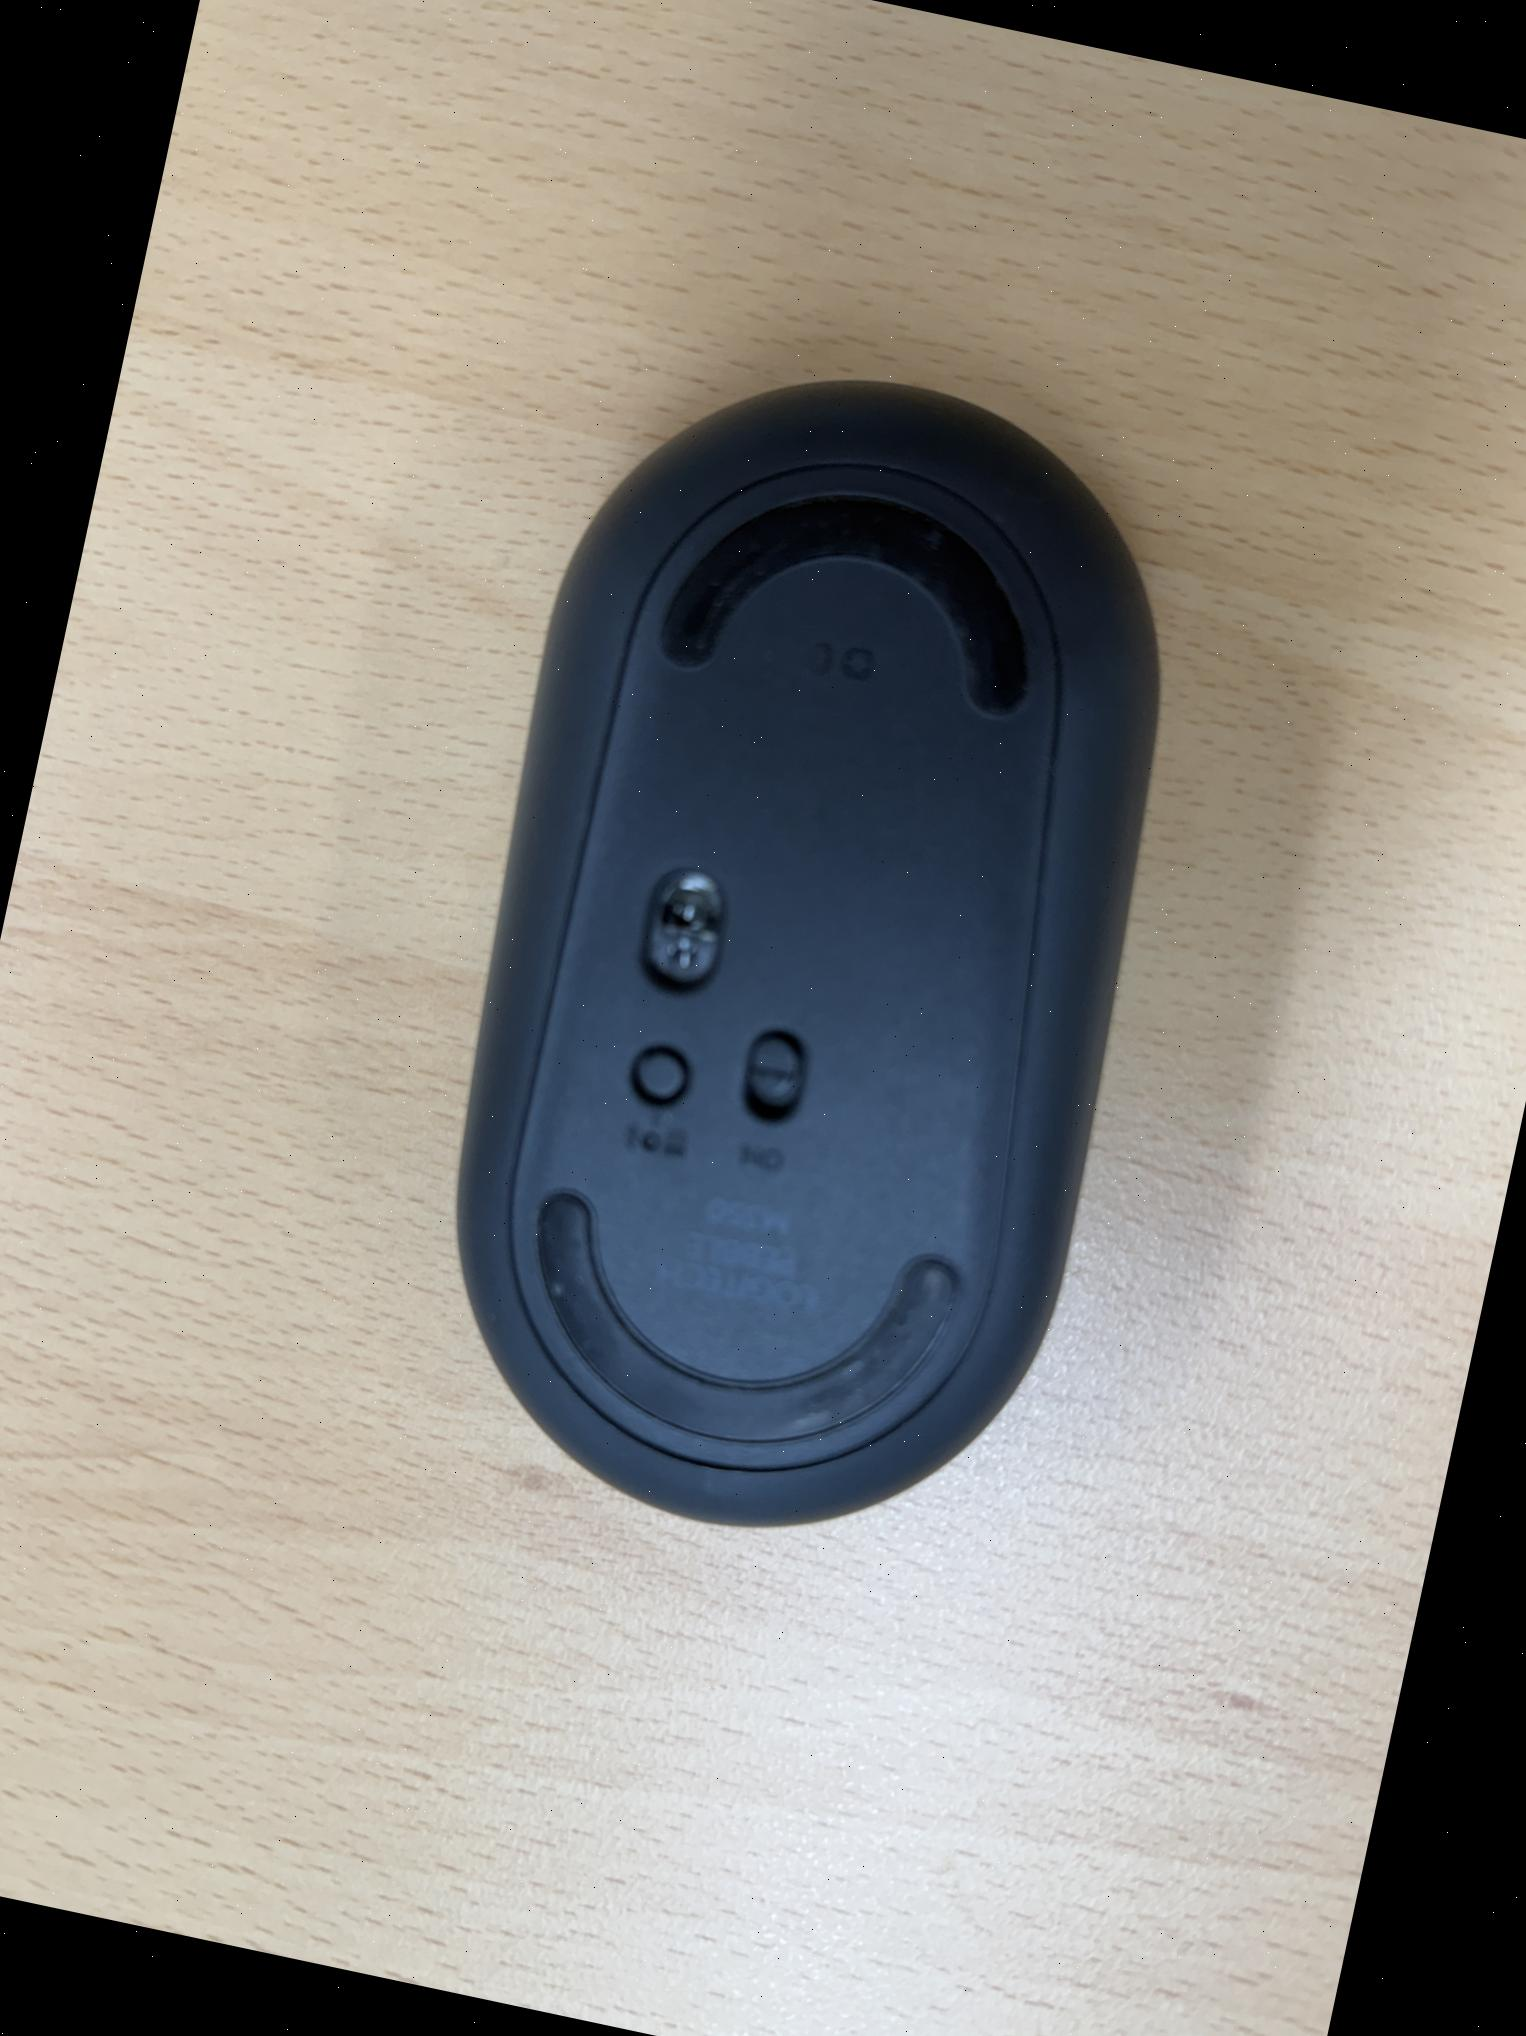back: (364, 314, 1250, 1589)
